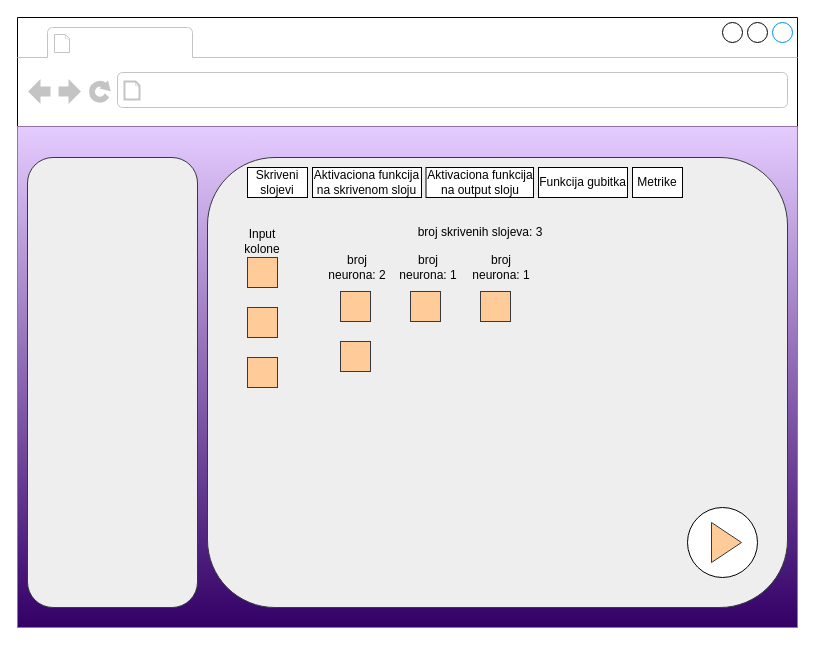
Image size: 815x645. Some labels were removed from this diagram. The shapes that lost their labels are listed below. From the top down, each one's centre as x and y in pixels, then its label:
(127,42): Neuronska mr..
(272,90): http://www.igrannonica.pmf.kg.ac.rs
(112,382): Eksperiment
